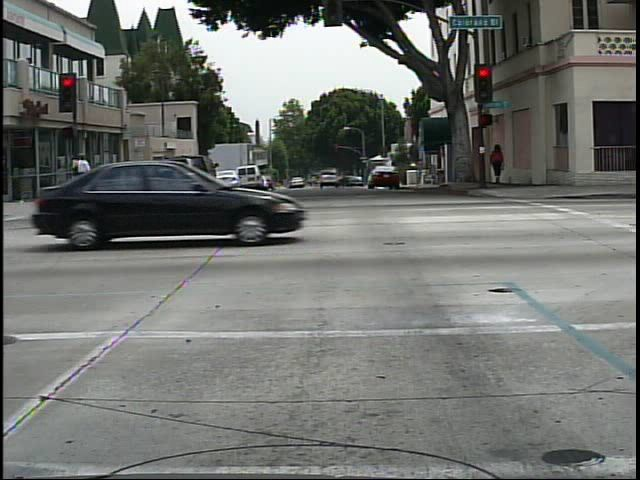person: (66, 147, 95, 209), (488, 137, 513, 191)
